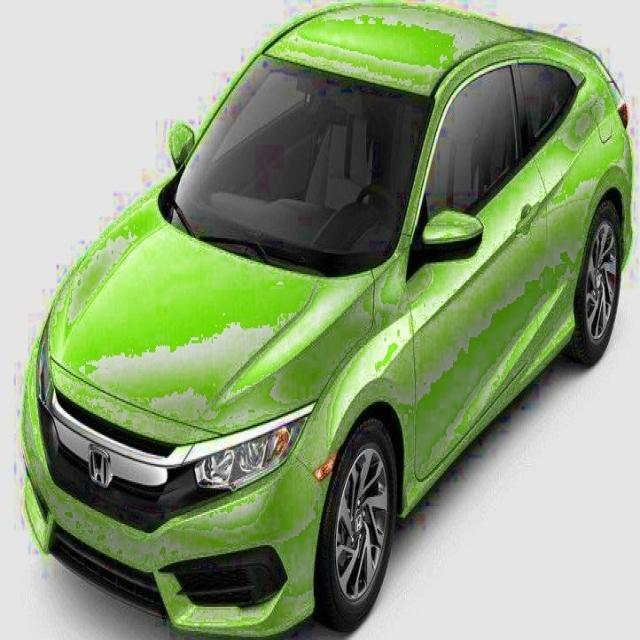green: (20, 0, 633, 640)
